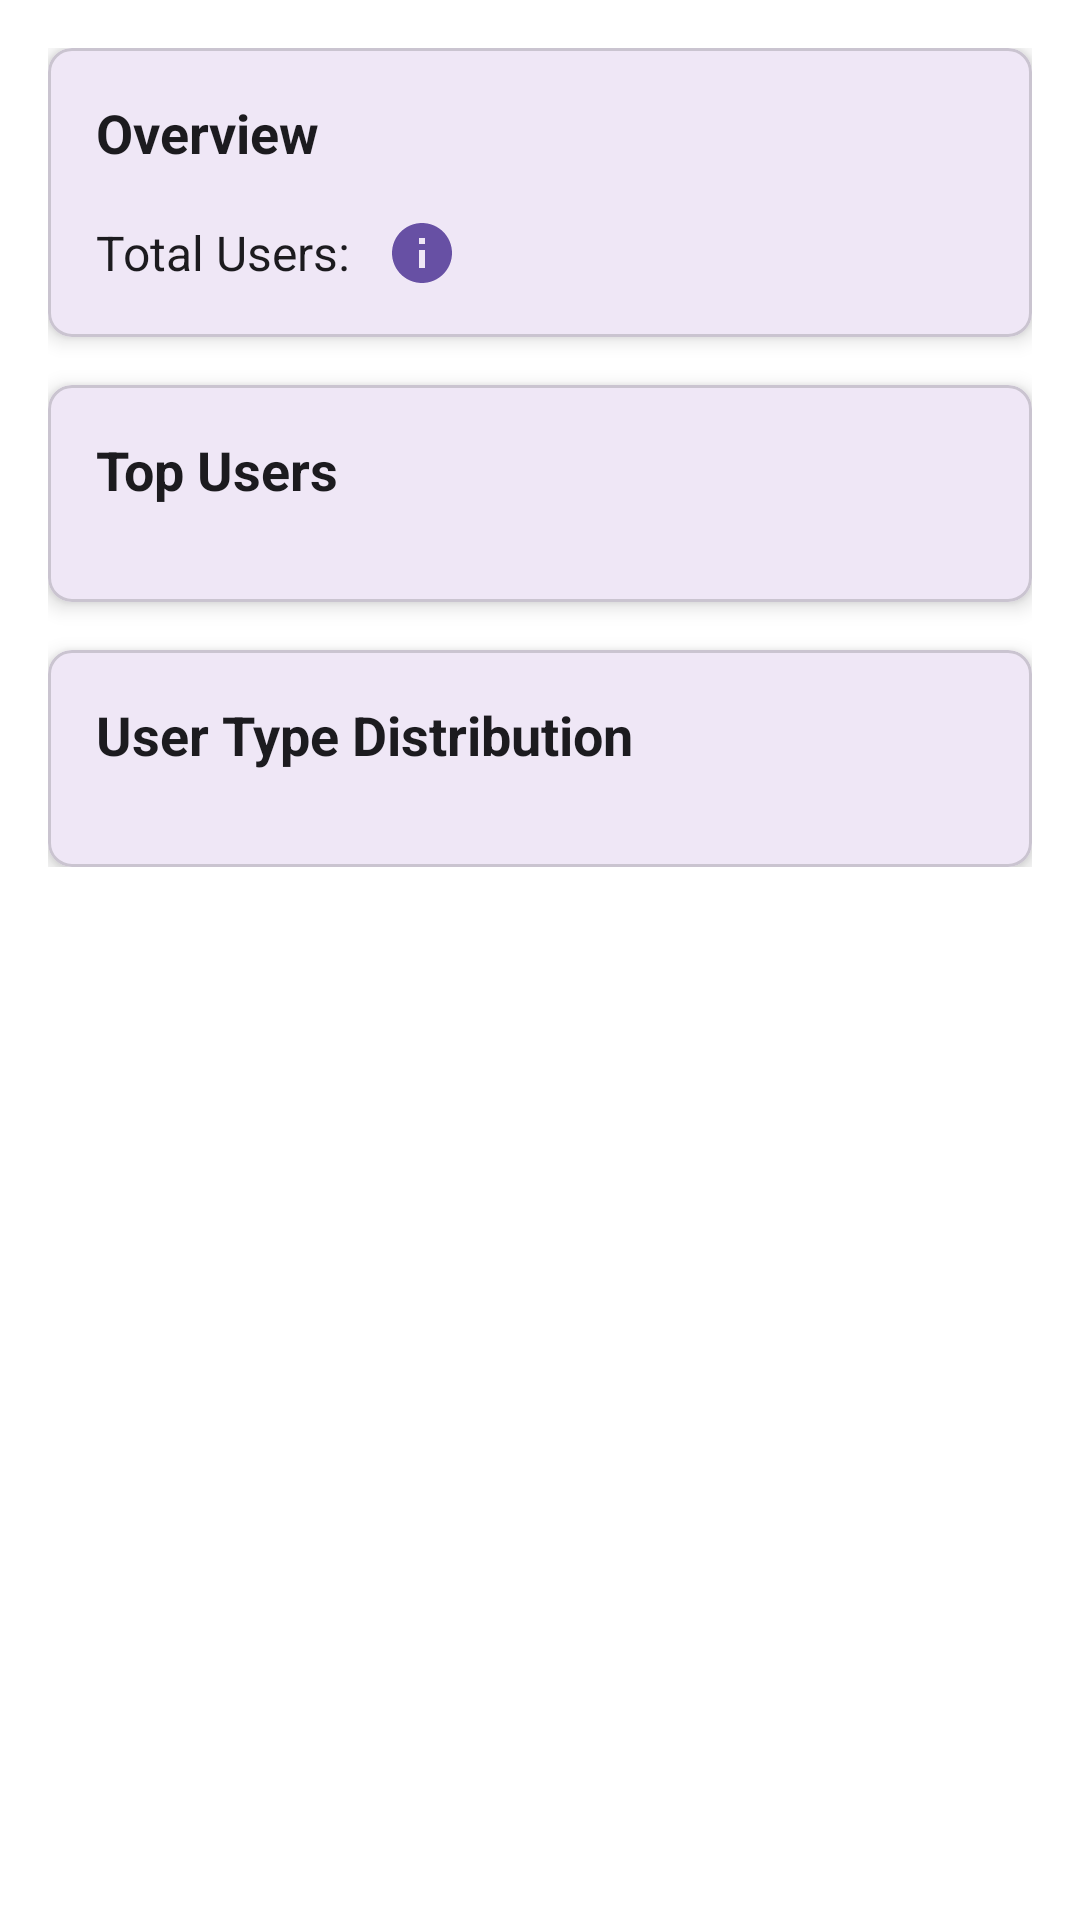

Locate icon controls on the screen. Image size 1080x1920, boxes as bbox(x1, y1, x2, y2).
Info: bbox(392, 223, 452, 283)
